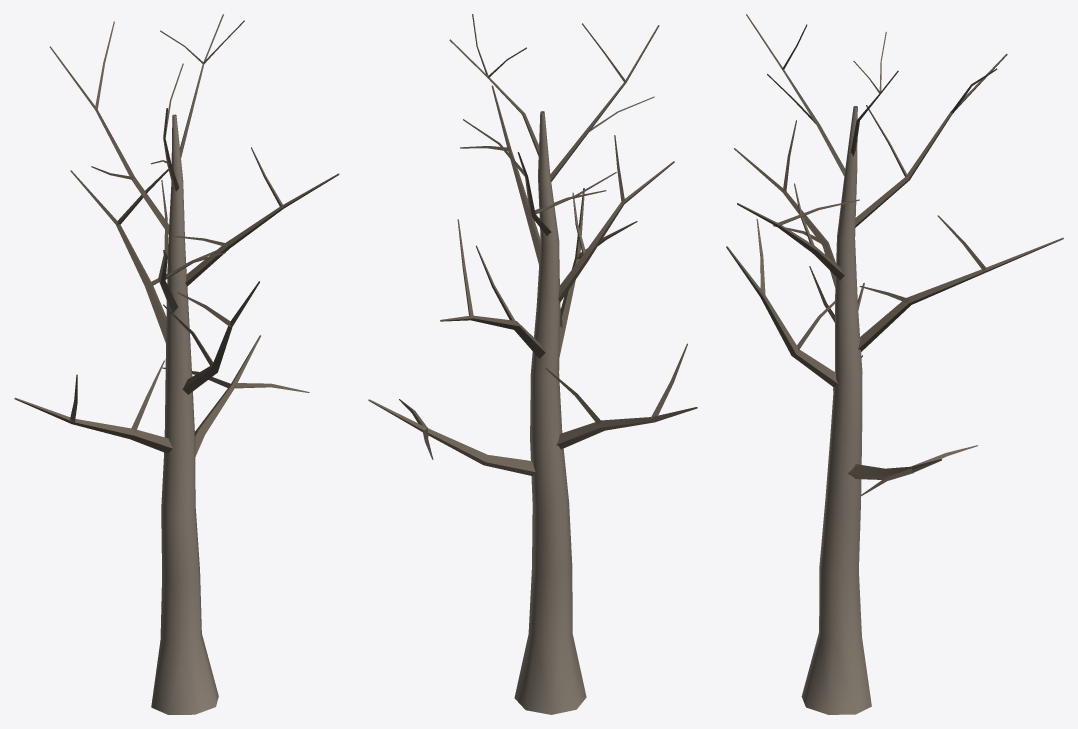
Rendered from tree_dead_a_lod0.glb.
3 views of the same model, side by side, from view 1: azimuth 30°, elevation 25°; view 2: azimuth 150°, elevation 25°; view 3: azimuth 270°, elevation 25° (orthographic). The views are drawn at different scales.
Parts seen in each view (by area): view 1: tree_dead_a_lod0; view 2: tree_dead_a_lod0; view 3: tree_dead_a_lod0.
Boxes of the visible parts, box(x1,y1,x2,y2) form: tree_dead_a_lod0: box(14, 14, 339, 714); tree_dead_a_lod0: box(368, 14, 697, 714); tree_dead_a_lod0: box(726, 14, 1063, 714).
Bounding box in the file's own units: 4.65 × 10.01 × 4.53.
